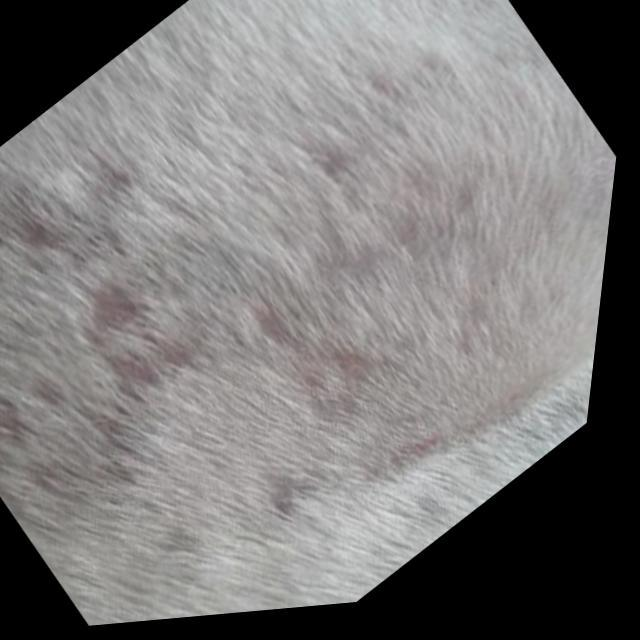qua man cho: (0, 0, 606, 613)
